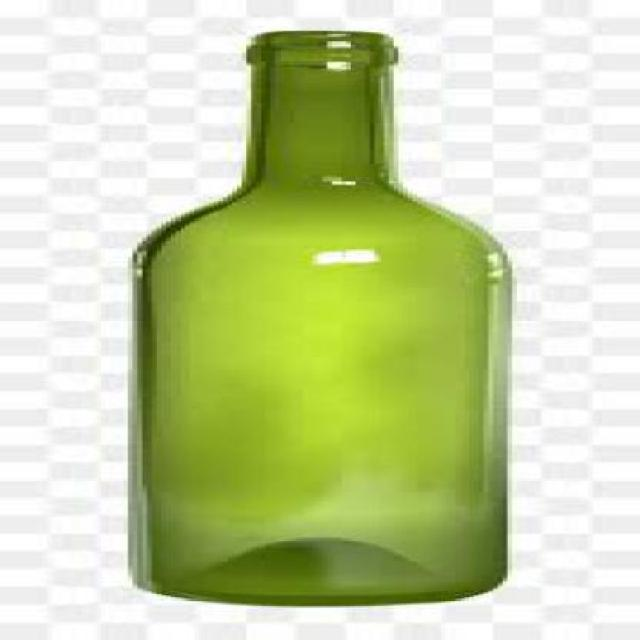GLASS: (128, 29, 507, 605)
